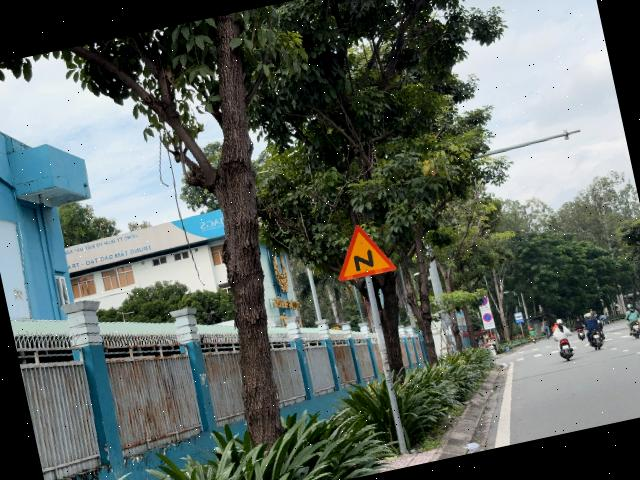nhieu-cho-ngoat-nguy-hiem-lien-tiep: (328, 219, 396, 282)
